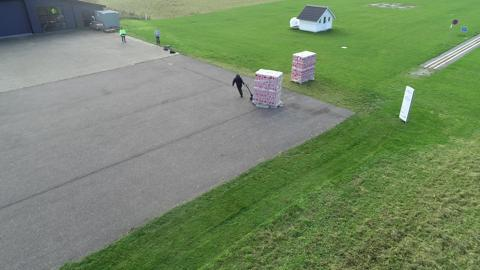RockwoolPallet: (254, 68, 282, 106)
